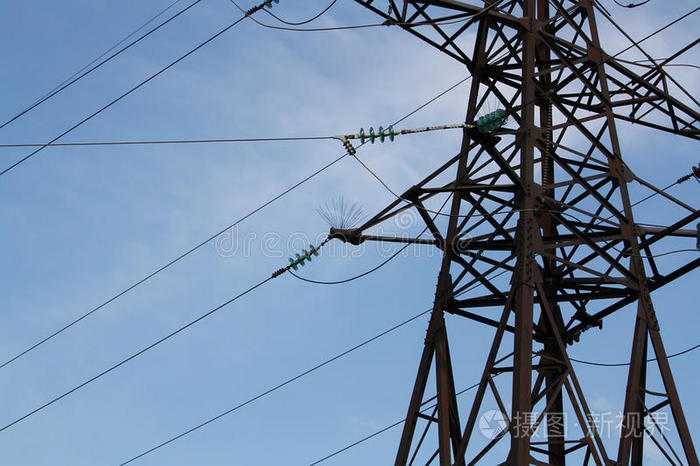insulator: (287, 243, 319, 272), (359, 124, 396, 145), (476, 109, 510, 128)
